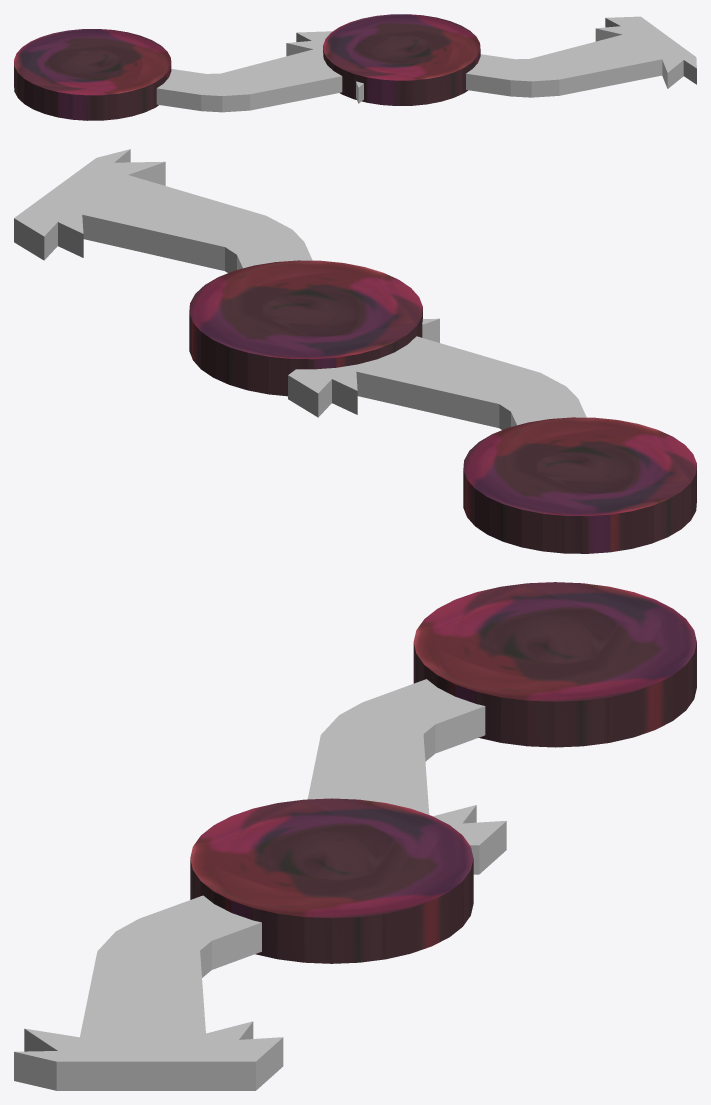
Rendered from DoubleJump.fbx.
The picture shows the model from 3 angles, top to bottom: view 1: azimuth 30°, elevation 25°; view 2: azimuth 150°, elevation 25°; view 3: azimuth 270°, elevation 25°; orthographic projection. The views are drawn at different scales.
Parts seen in each view (by area): view 1: Circle.001, Circle, Plane, Plane.001; view 2: Circle.001, Circle, Plane, Plane.001; view 3: Circle.001, Circle, Plane, Plane.001.
Boxes of the visible parts, x1,y1,x2,y2 form: Circle.001: (14, 29, 171, 120); Circle: (323, 14, 480, 105); Plane: (466, 16, 696, 97); Plane.001: (156, 31, 363, 112); Circle.001: (463, 417, 696, 553); Circle: (189, 260, 422, 396); Plane: (14, 149, 312, 272); Plane.001: (288, 318, 586, 429); Circle.001: (413, 582, 696, 747); Circle: (190, 798, 473, 963); Plane: (14, 895, 283, 1090); Plane.001: (307, 679, 506, 874).
Size of the model in its own units: 212 by 9.67 by 131.
